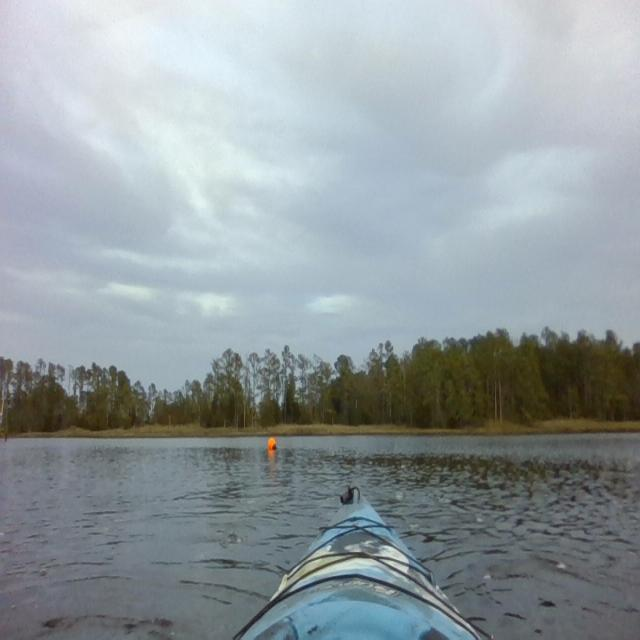Buoy: (267, 437, 278, 453)
